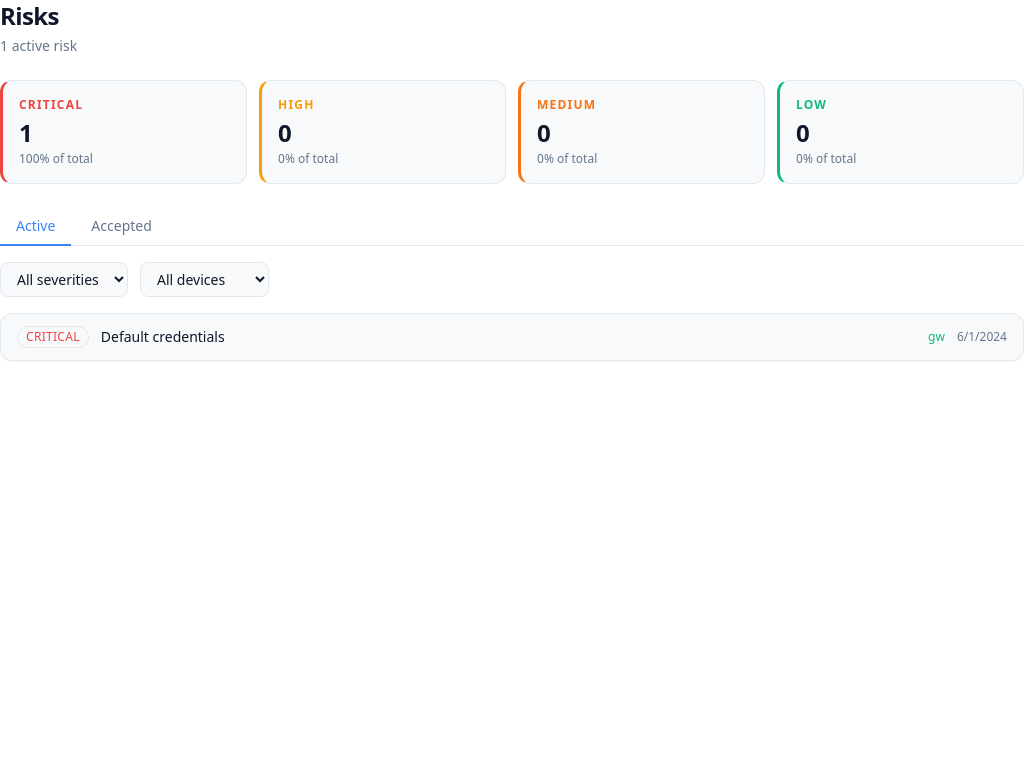
it: RisksPage › closes modal when clicking close button
Expected: the text "Default credentials" is shown, left=101, top=327, right=225, bottom=346
Click the button with aria-label "View details for Default credentials" at x=53, y=337, box left=1, top=314, right=1023, bottom=360
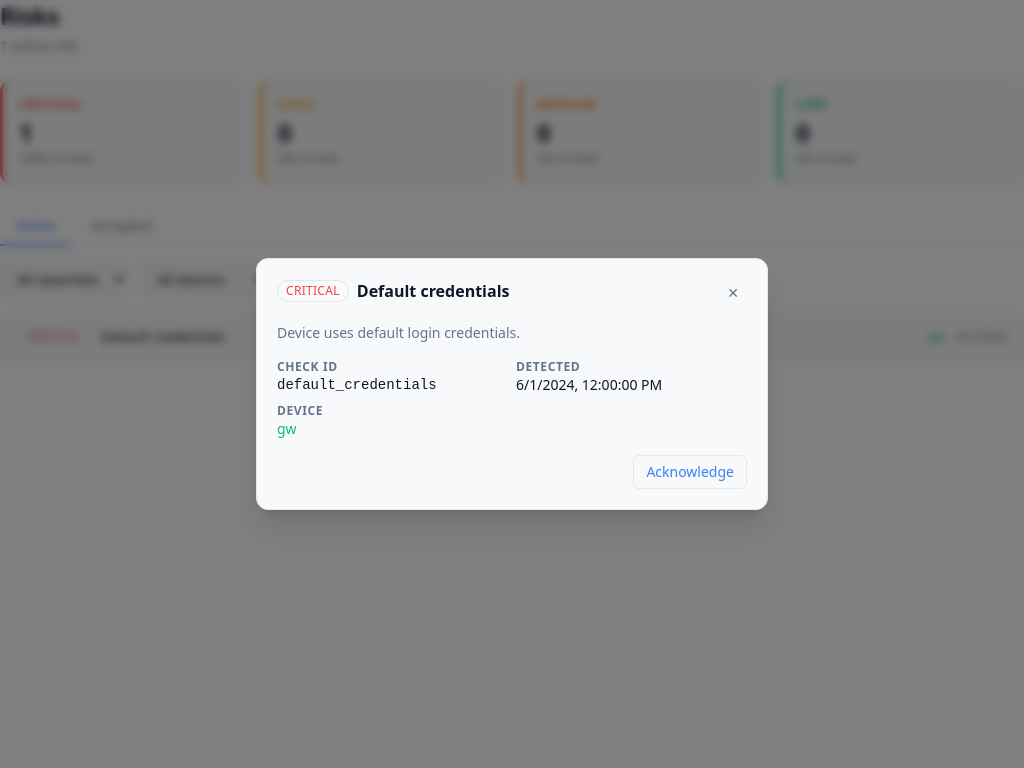
Now the dialog is shown
Click the button named "Close dialog" at x=733, y=293, box left=719, top=279, right=747, bottom=307
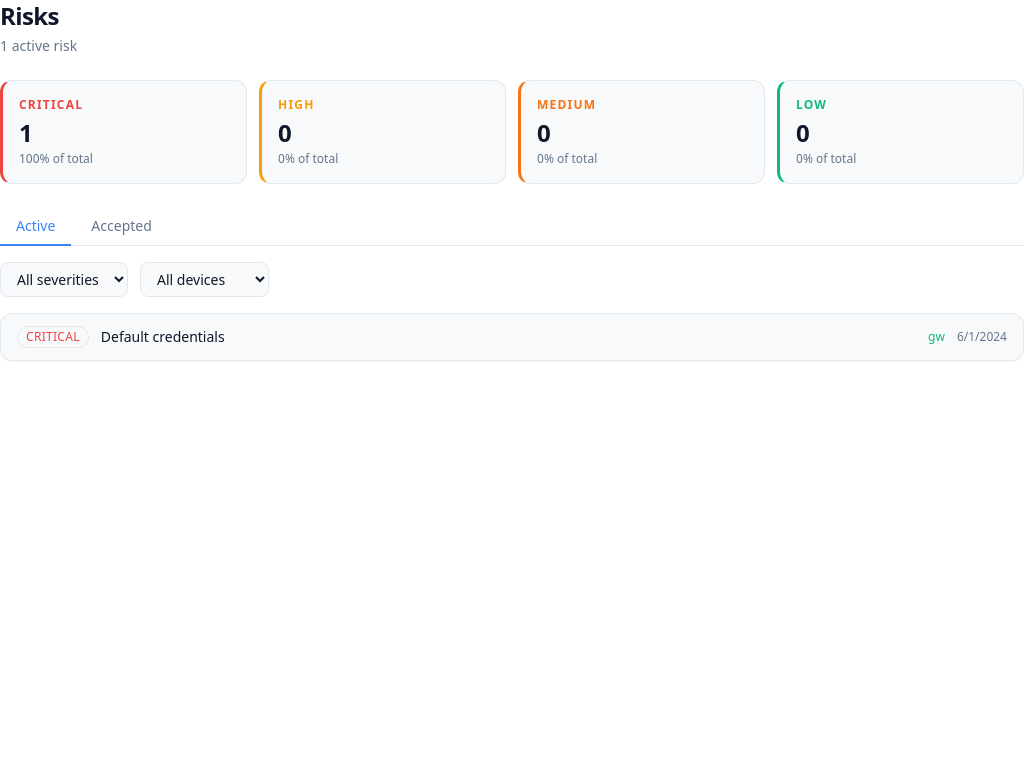
Now the dialog is gone
